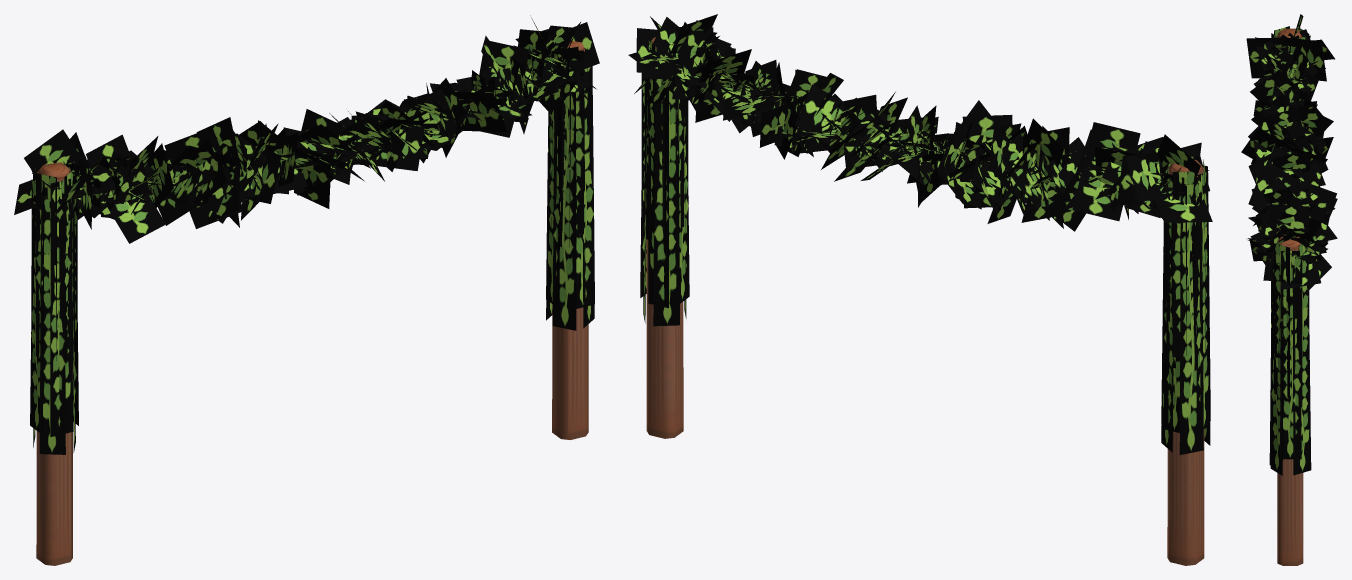
File: VineFestoonHand.fbx
The picture shows the model from 3 angles, left to right: view 1: azimuth 30°, elevation 25°; view 2: azimuth 150°, elevation 25°; view 3: azimuth 270°, elevation 25°; orthographic projection. The views are drawn at different scales.
Parts seen in each view (by area): view 1: FestoonLights (2), FestoonLights (1); view 2: FestoonLights (2), FestoonLights (1); view 3: FestoonLights (2), FestoonLights (1).
Part boxes in pixels (x1,y1,x2,y2): FestoonLights (2): (14,15,599,243); FestoonLights (1): (30,41,594,565); FestoonLights (2): (628,14,1212,231); FestoonLights (1): (640,37,1210,565); FestoonLights (2): (1241,14,1337,291); FestoonLights (1): (1269,26,1311,565).
Bounding box in the file's own units: 1.66 × 1.16 × 0.2954.
